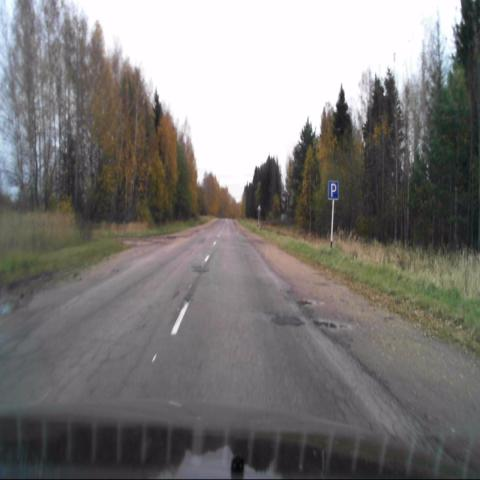6_4: (327, 179, 339, 201)
